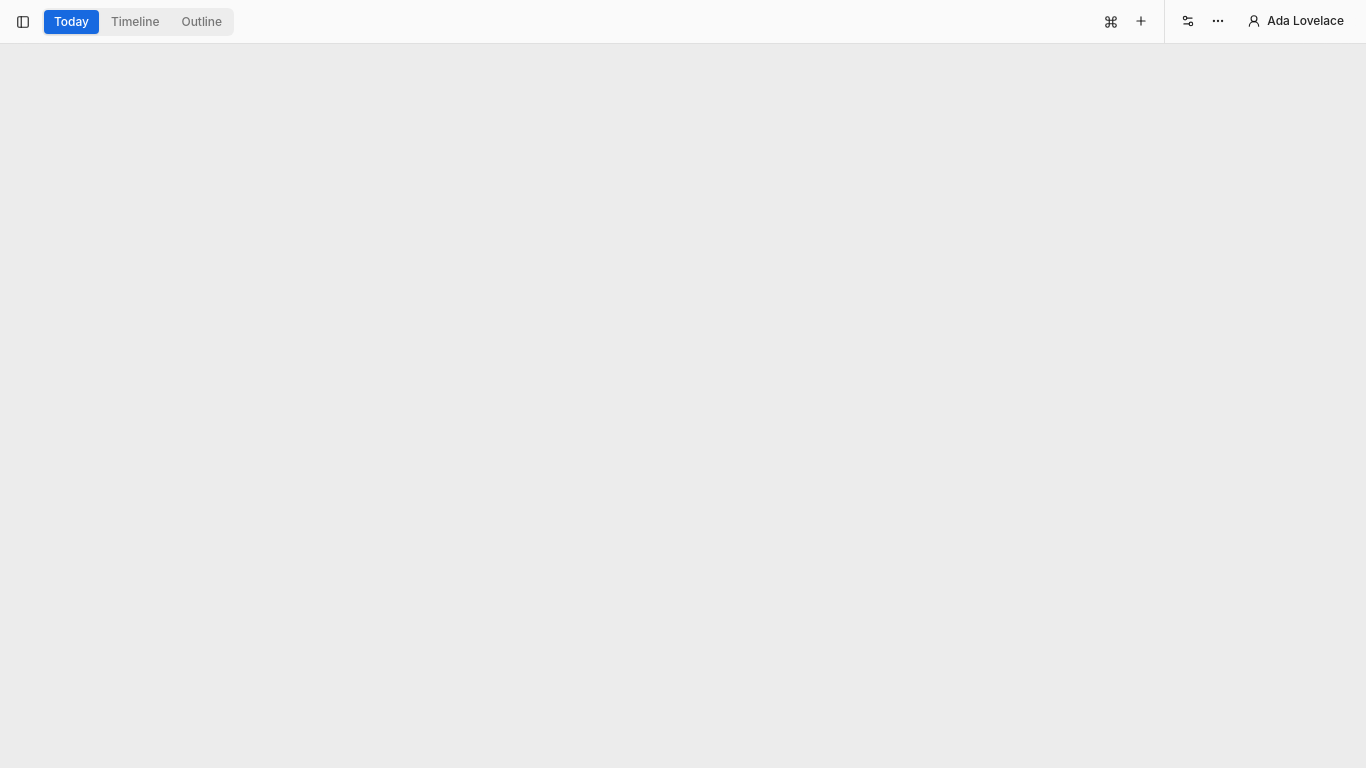
it: AppToolbar account action › opens account settings in the standard dialog
Click the button "Ada Lovelace".
click(1296, 21)  # box [1237, 10, 1354, 32]
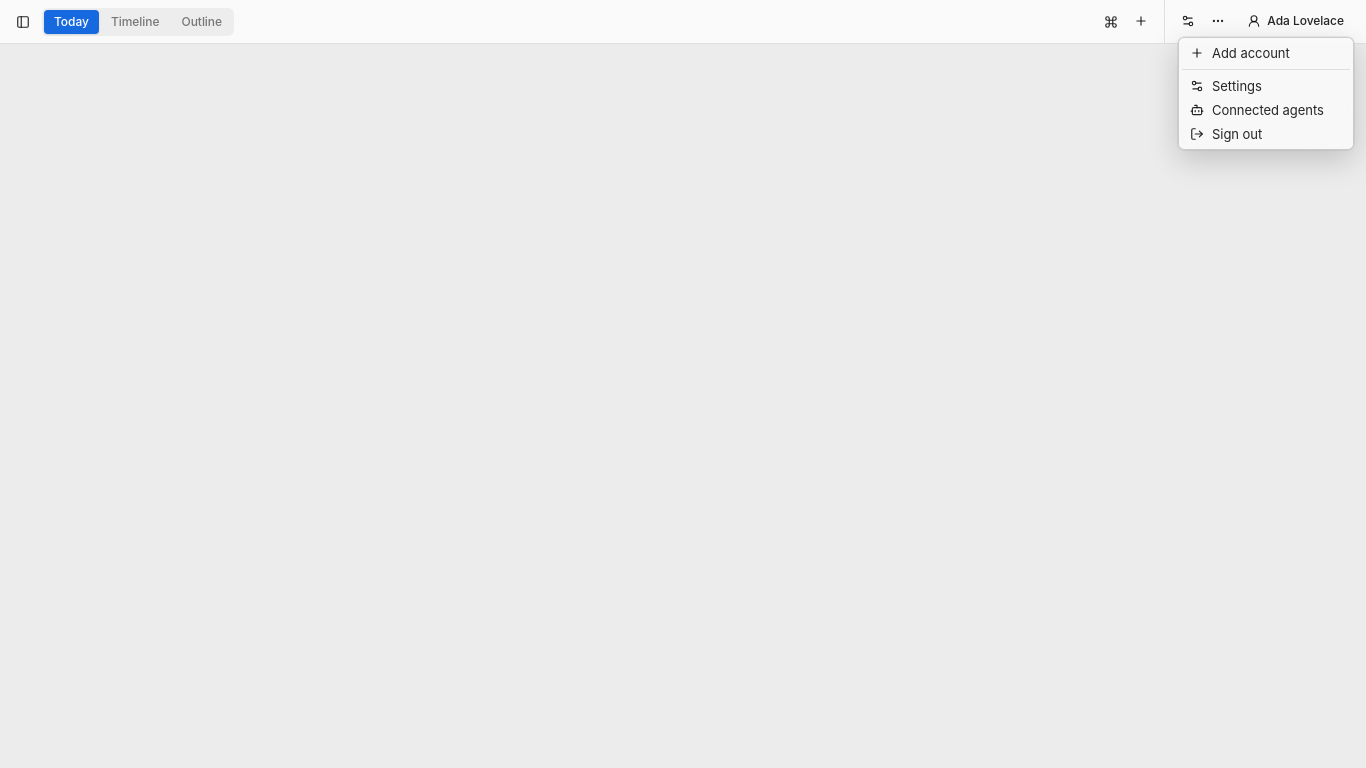
Expected: the number of menu items is 4
Expected: the menu item "Connected agents" is shown, [1190, 102, 1324, 118]
Click the menu item "Settings".
click(1226, 86)  # box [1190, 78, 1262, 94]
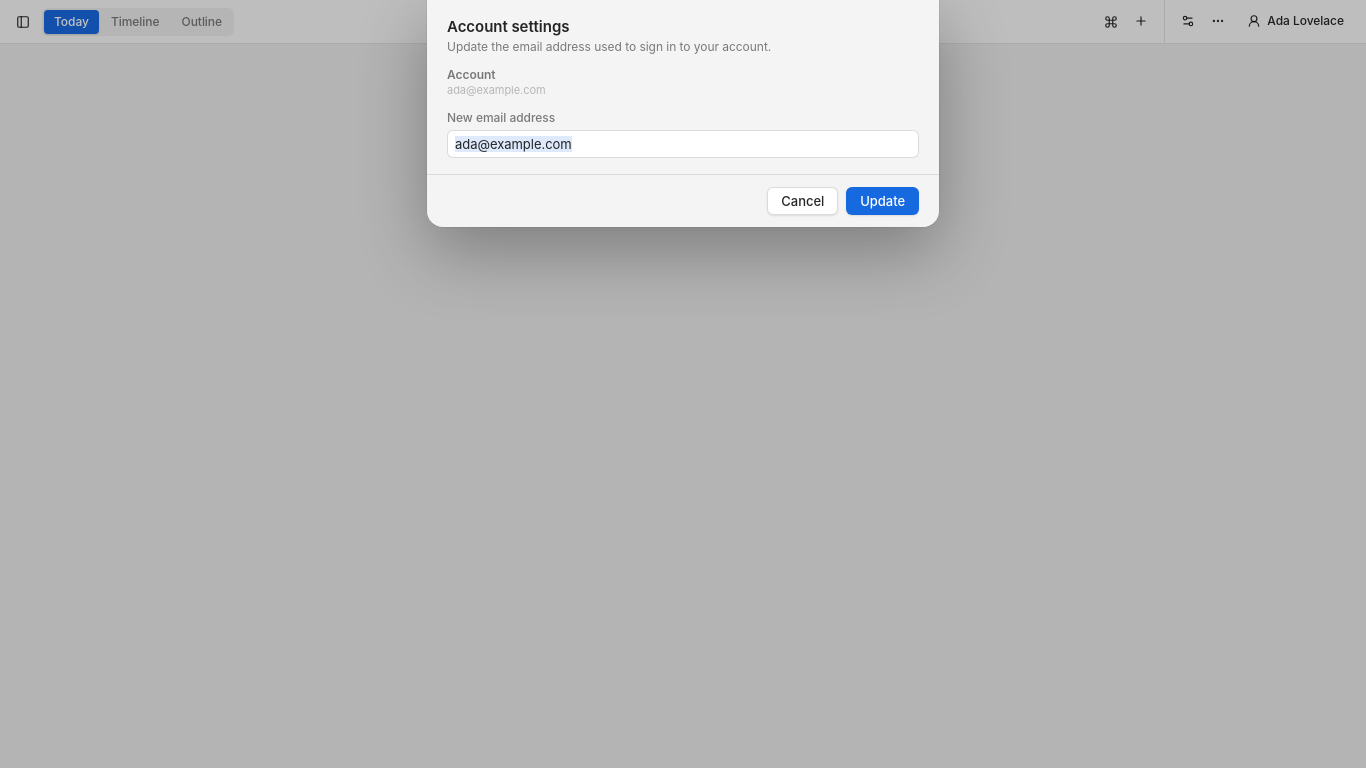
Expected: the dialog "Account settings" is shown, [427, 0, 939, 227]
Expected: the field labelled "New email address" is shown, [447, 130, 919, 158]
